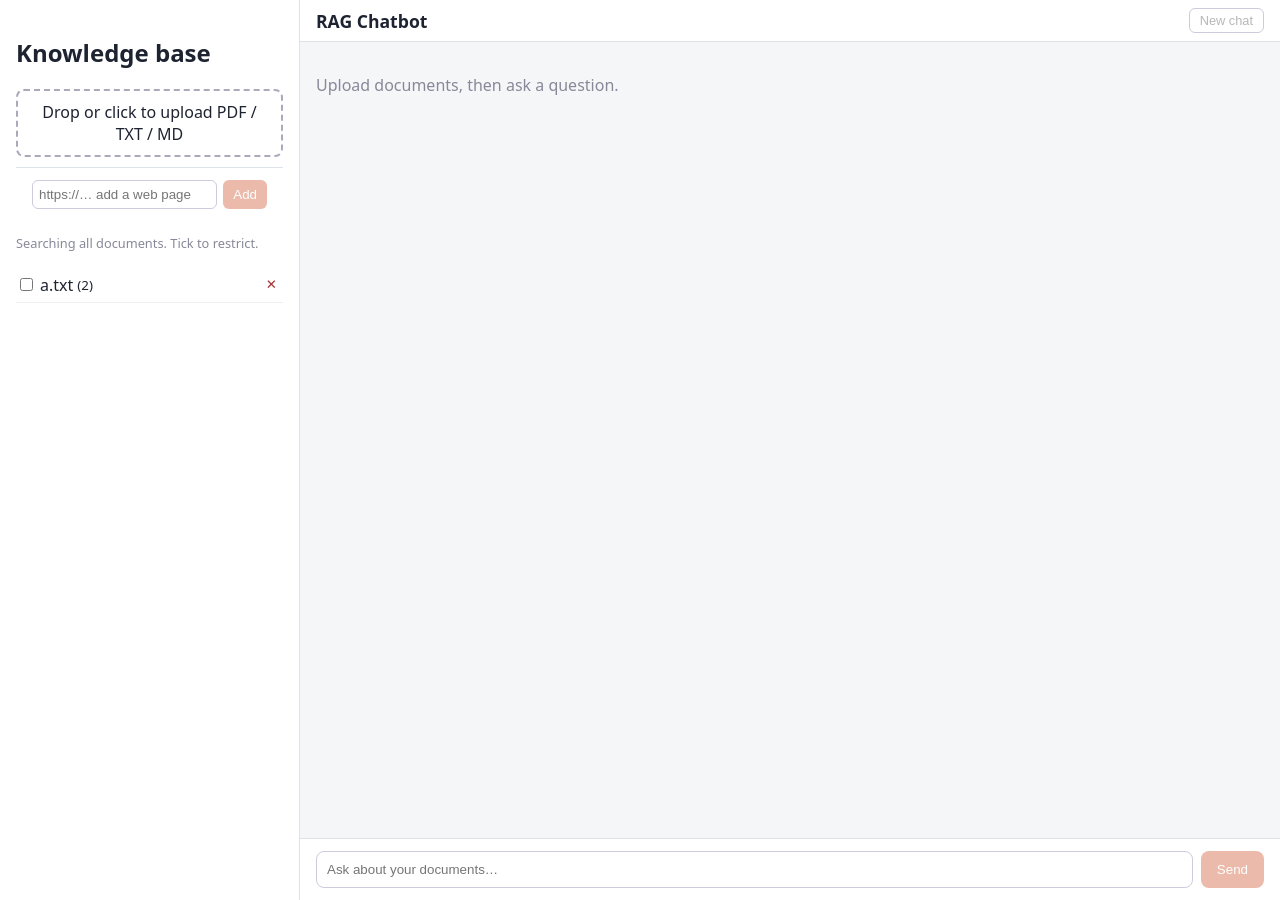
lists documents and toggles the source filter
Click the checkbox. click: (26, 285)
box: left=20, top=278, right=33, bottom=291
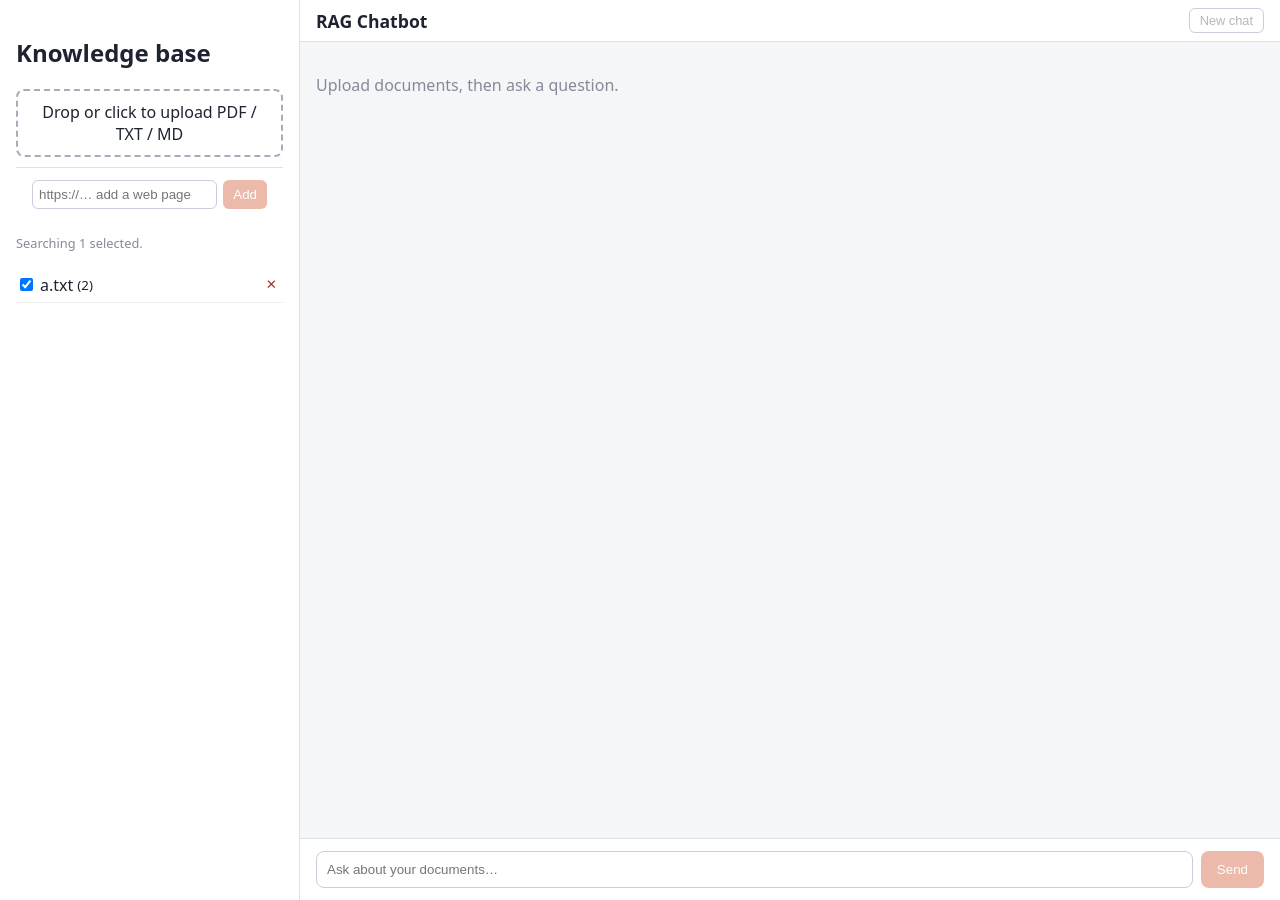
Check: the text "Searching 1 selected." is shown, box left=16, top=234, right=143, bottom=252
